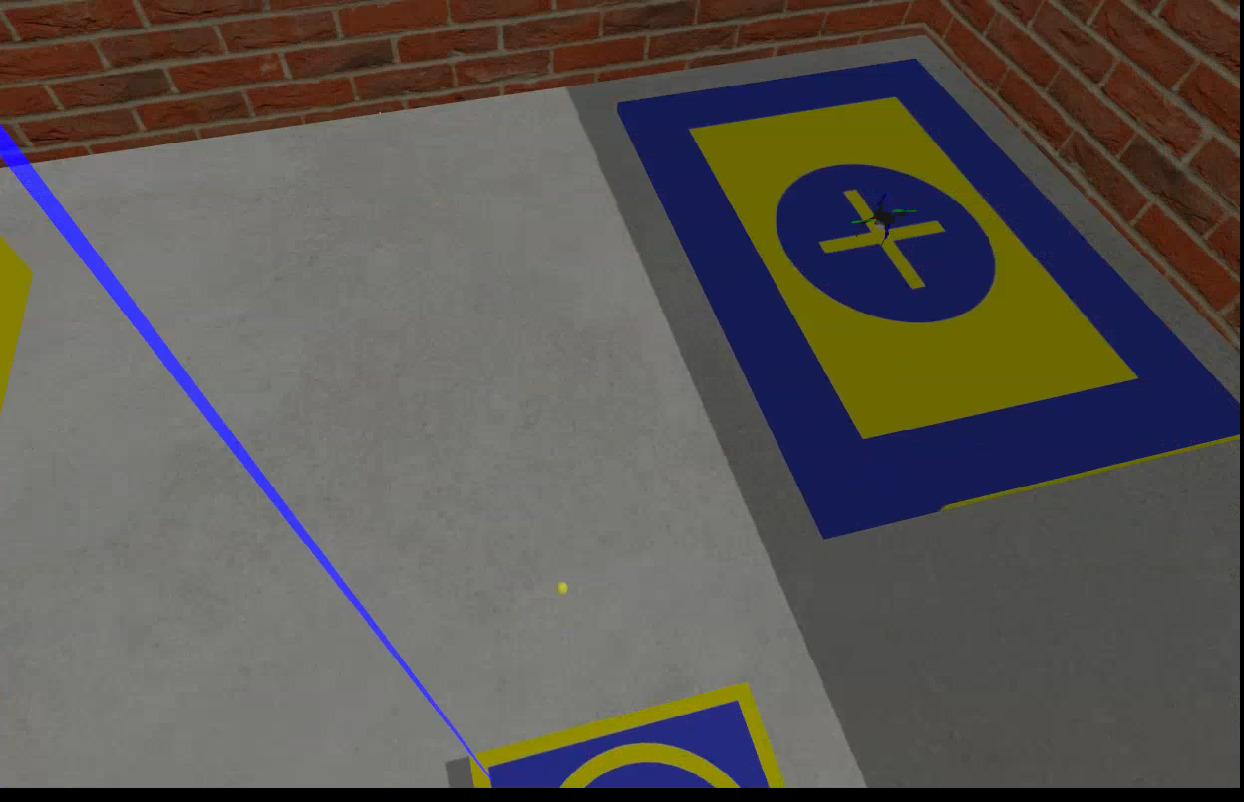large_base: (615, 59, 1243, 542)
small_base: (469, 683, 789, 790)
